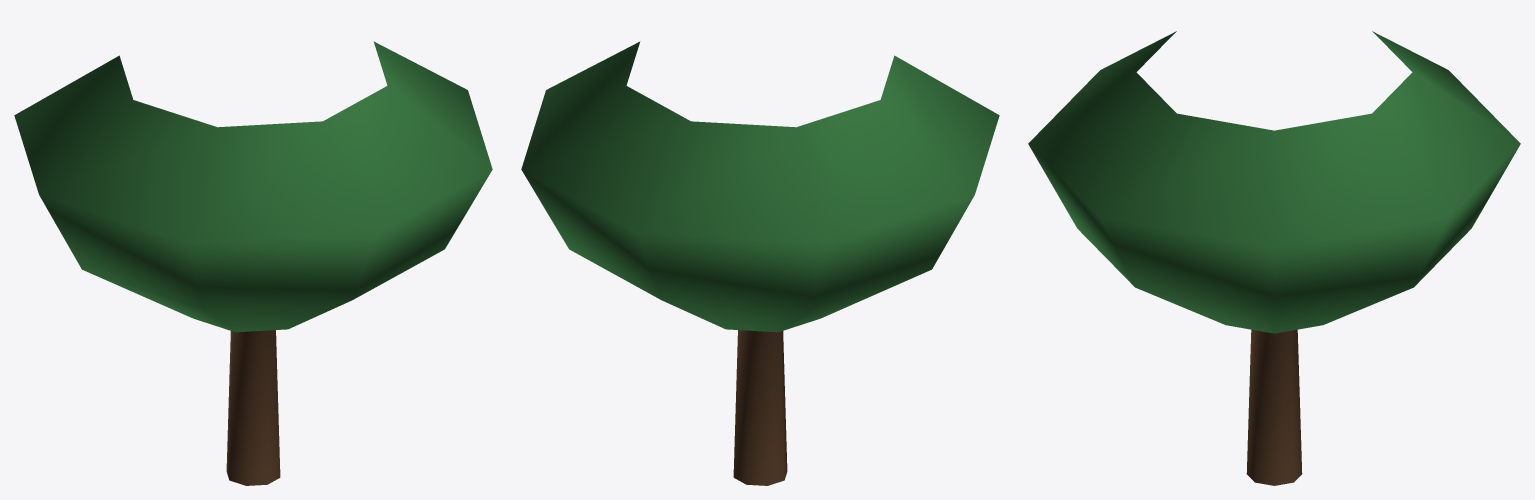
File: generic.gltf
3 views of the same model, side by side, from view 1: azimuth 30°, elevation 25°; view 2: azimuth 150°, elevation 25°; view 3: azimuth 270°, elevation 25° (orthographic).
Visible parts, largest first — view 1: generic; view 2: generic; view 3: generic.
Boxes of the visible parts, x1,y1,x2,y2 form: generic: (14, 41, 492, 485); generic: (521, 41, 999, 485); generic: (1028, 31, 1520, 485).
Bounding box in the file's own units: 1 × 1 × 1.
